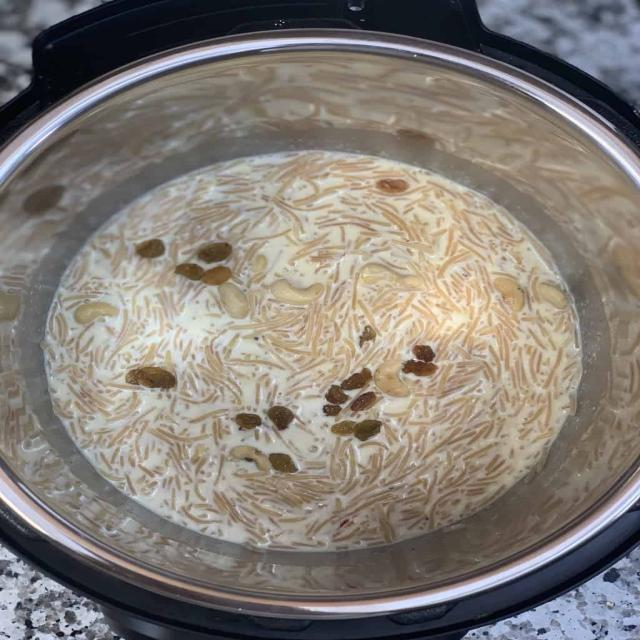shavige payasa: (0, 124, 610, 584)
